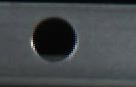holes: (29, 15, 78, 64)
